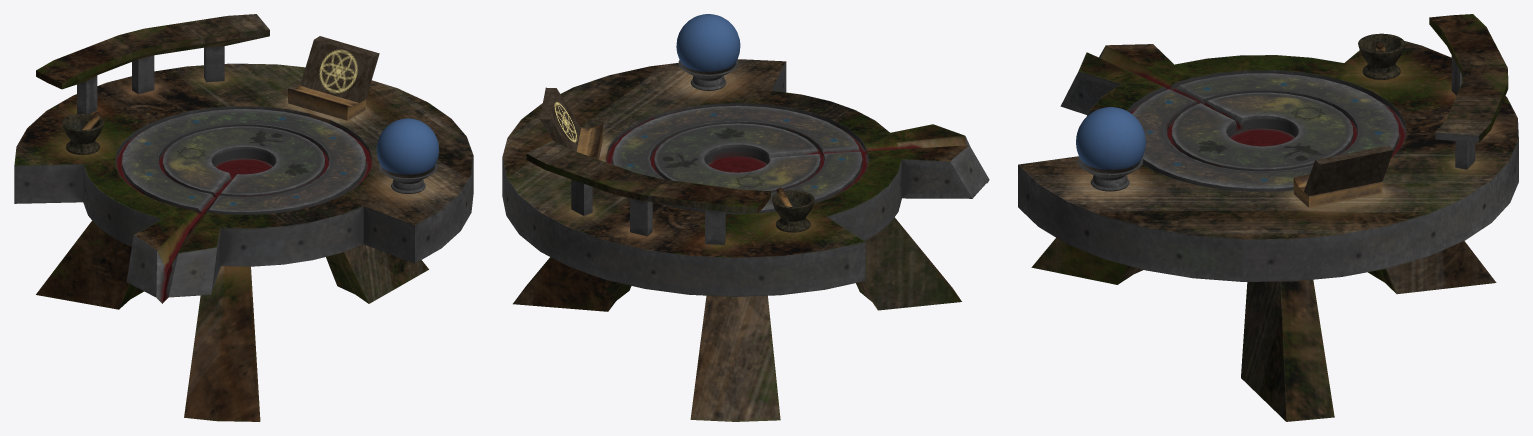
Rendered from Wizard_Table3.fbx.
3 views of the same model, side by side, from view 1: azimuth 30°, elevation 25°; view 2: azimuth 150°, elevation 25°; view 3: azimuth 270°, elevation 25° (orthographic). The views are drawn at different scales.
Parts seen in each view (by area): view 1: AlchemyTable; view 2: AlchemyTable; view 3: AlchemyTable.
Part boxes in pixels (left/top/right/bottom): AlchemyTable: left=14, top=14, right=473, bottom=421; AlchemyTable: left=502, top=14, right=989, bottom=421; AlchemyTable: left=1018, top=14, right=1518, bottom=421.
Bounding box in the file's own units: 18373 × 10739 × 18952.
Materials: 1 (1 with a texture image).
